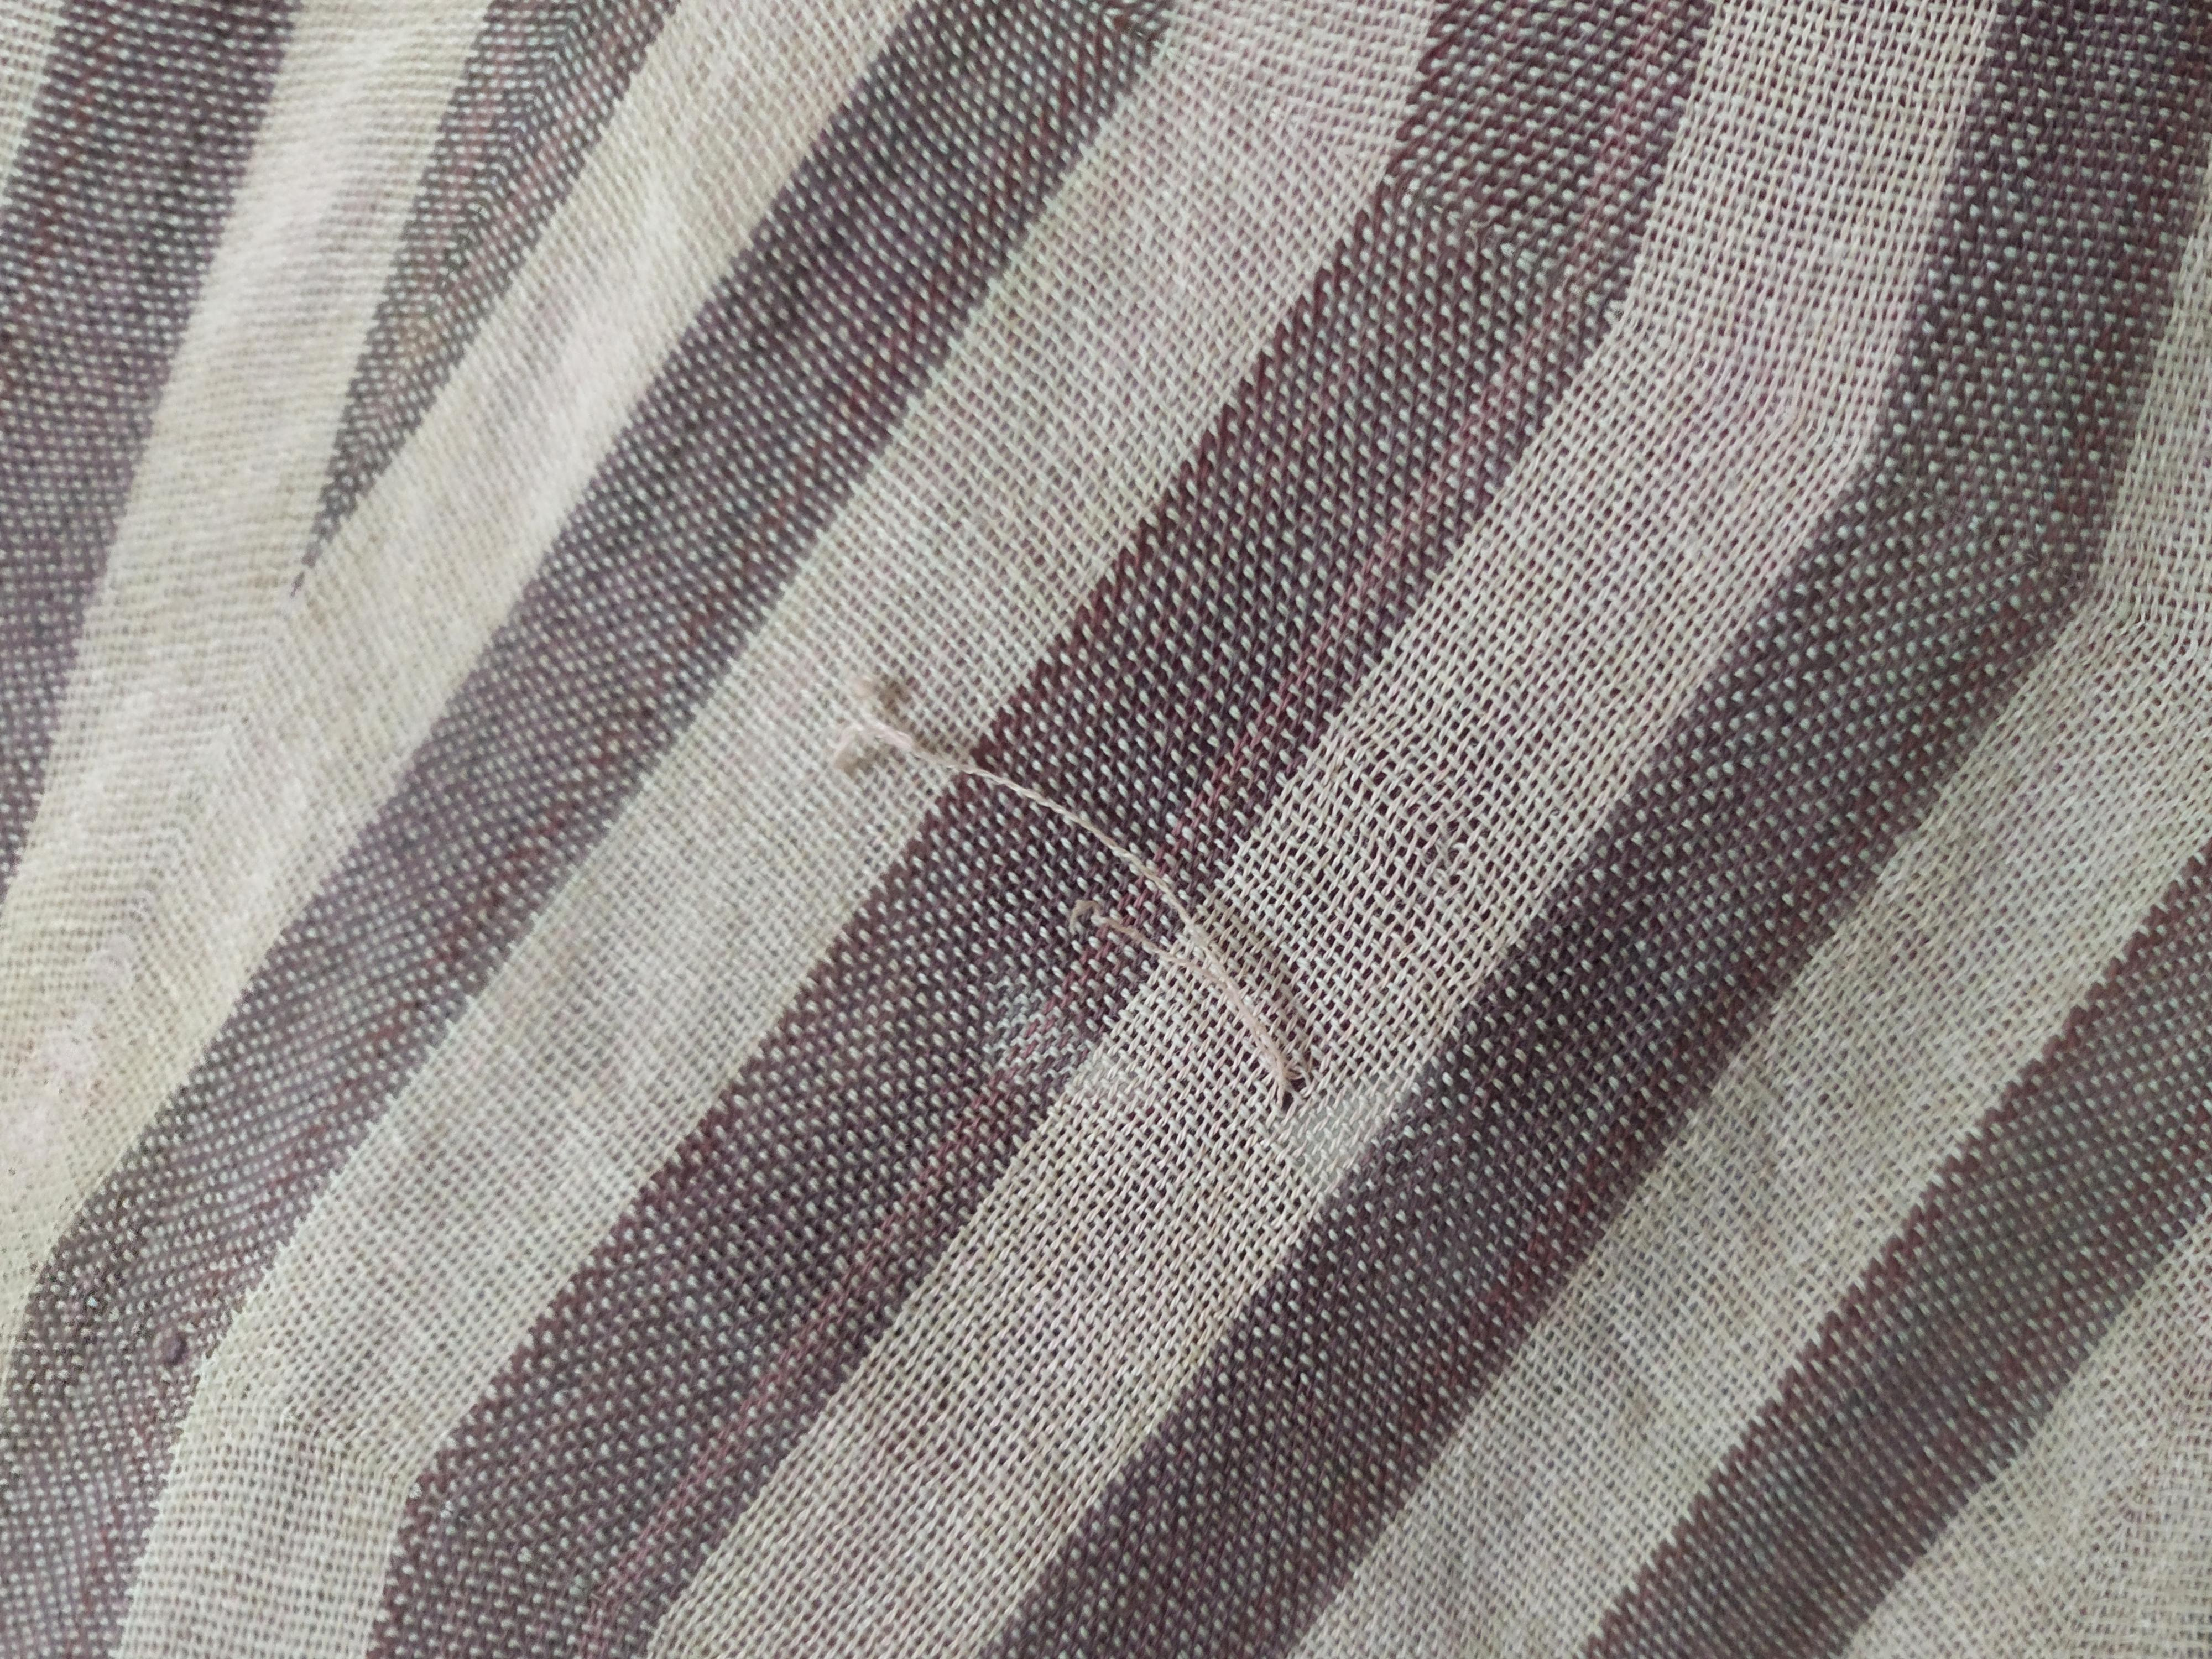snag: (796, 605, 1390, 1133)
